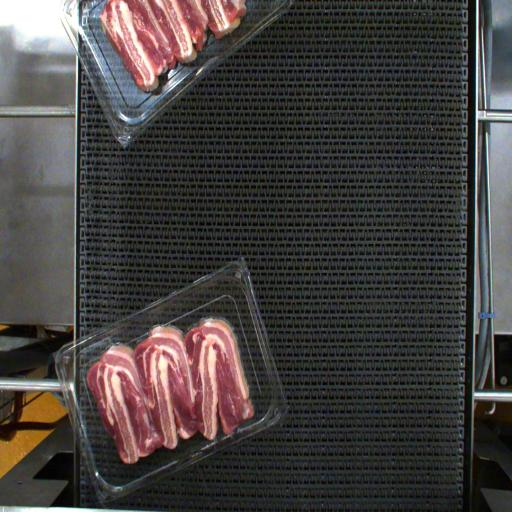unsealed: (68, 316, 250, 391)
